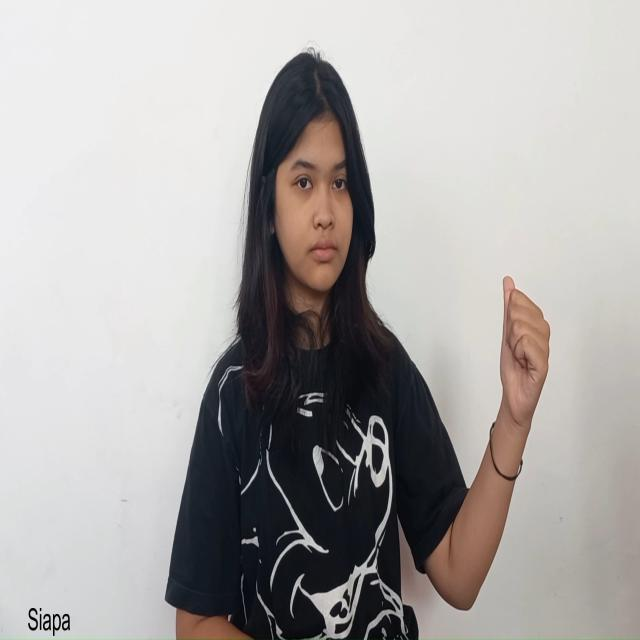Siapa -BISINDO-: (498, 271, 552, 443)
